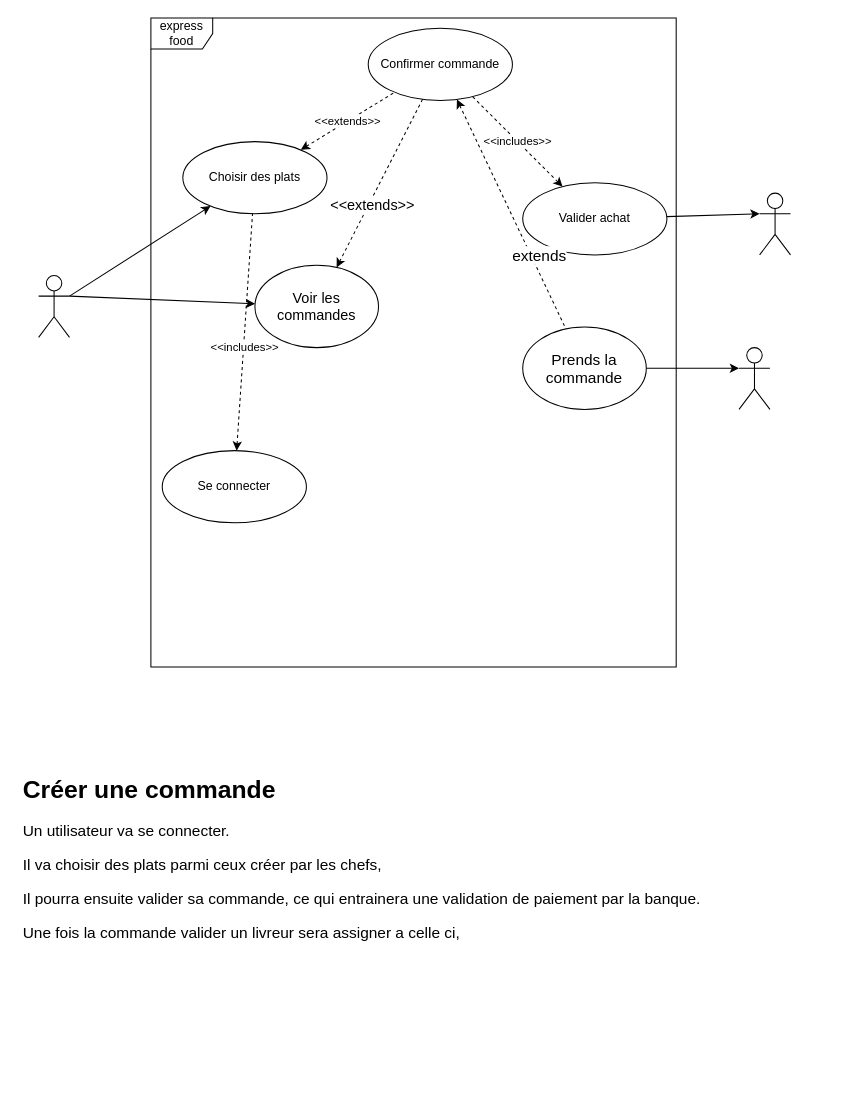
This 849x1097 diagram has some shape labels left out. The shapes that lost their labels are listed below. From the top down, each one's centre as x and y in pixels, then its label:
[775,223]: banque
[54,305]: Client
[754,378]: Livreur
